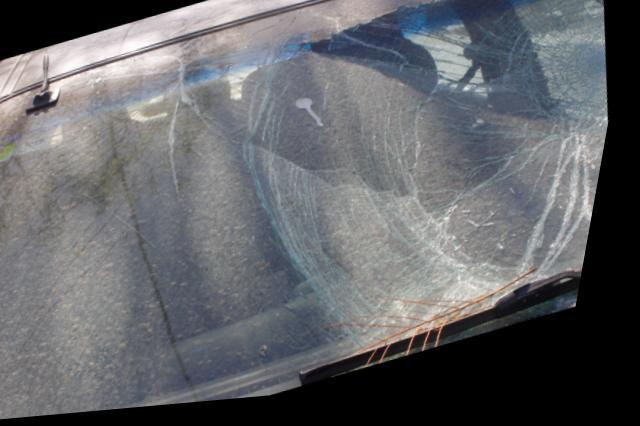glass shatter: (0, 0, 615, 422)
